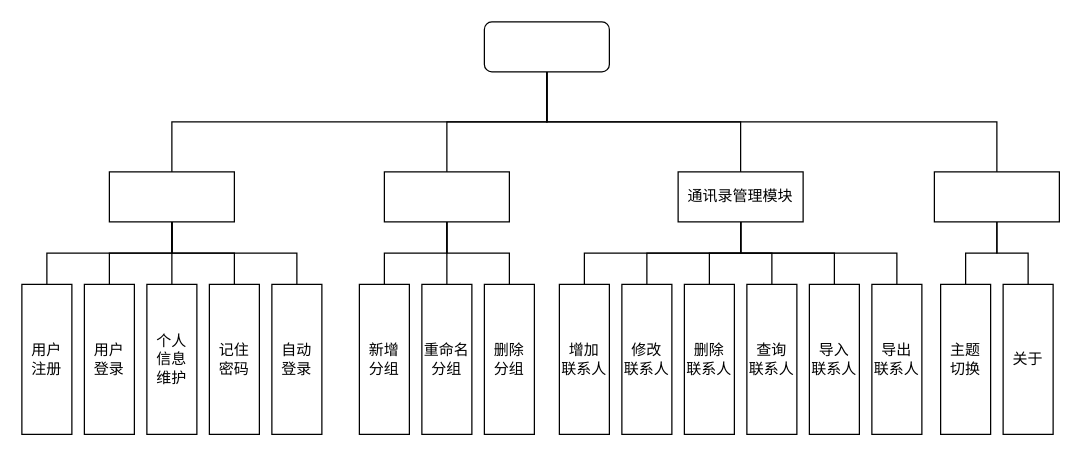
Some shapes in this 1081 by 456 pixel diagram are drawn without their labels. Here are the shapes that lost their labels. From the top down, the box of each, then its label:
(483, 21, 609, 72): LinUp通讯录
(108, 171, 234, 222): 用户管理模块
(383, 171, 509, 222): 分组管理模块
(933, 171, 1059, 222): 系统设置模块
